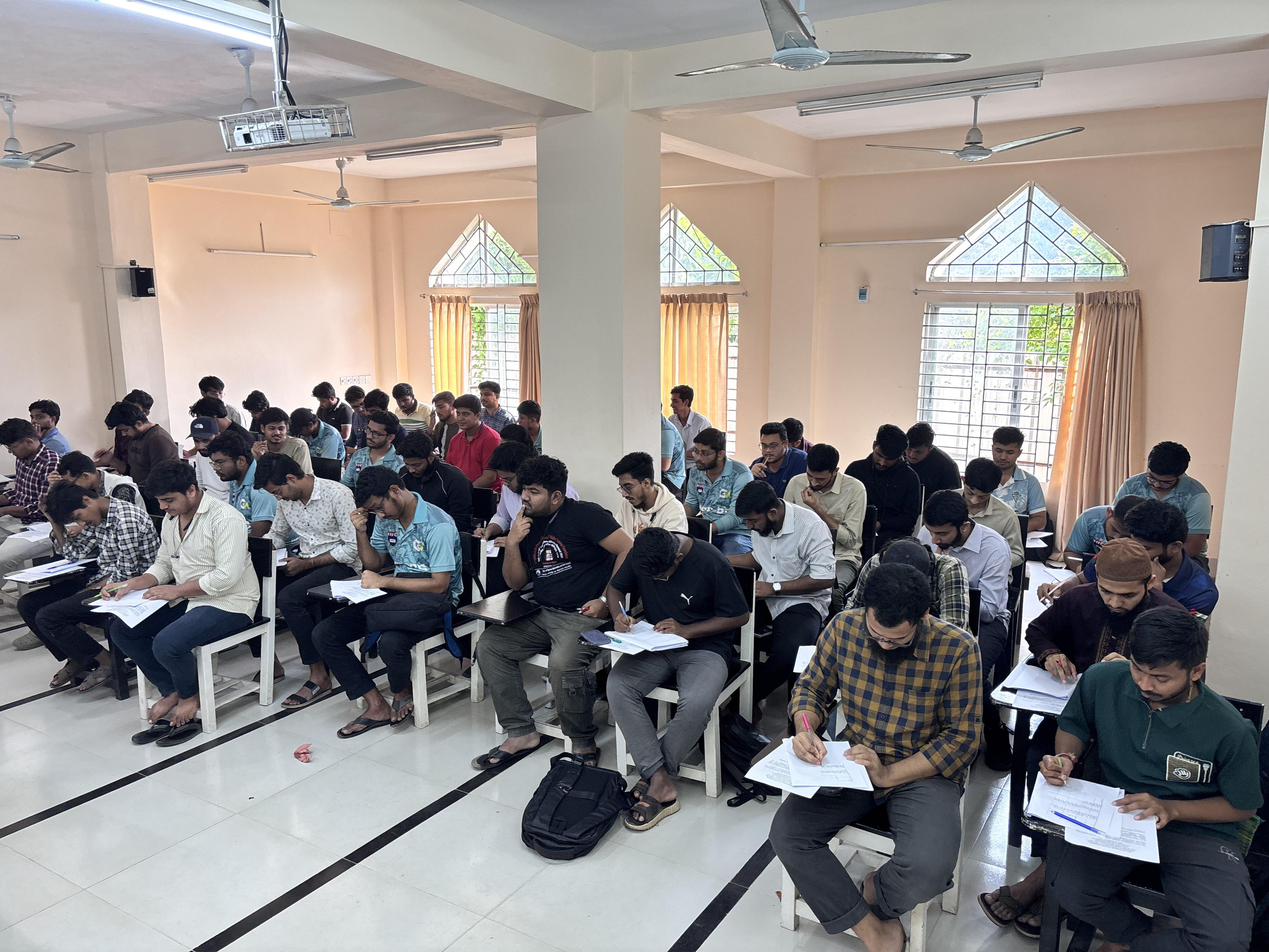copying: (387, 373, 430, 436), (181, 411, 217, 461)
no_cheating: (1018, 609, 1269, 952), (776, 549, 976, 916), (474, 456, 609, 737), (324, 463, 471, 702), (121, 463, 247, 724), (603, 516, 747, 741), (253, 449, 354, 675), (1029, 534, 1179, 685), (33, 479, 148, 664), (729, 475, 820, 609), (906, 486, 993, 567), (604, 447, 681, 535), (101, 397, 179, 477), (3, 414, 46, 549), (1128, 428, 1201, 507), (856, 419, 917, 510), (685, 425, 749, 510), (787, 441, 861, 513), (903, 419, 960, 494), (955, 460, 1020, 524), (346, 406, 409, 468), (444, 392, 494, 469), (982, 420, 1035, 485), (499, 386, 552, 449), (752, 412, 803, 474), (305, 373, 349, 428), (469, 376, 505, 419)
side_talking: (245, 401, 301, 471), (667, 373, 705, 430)
